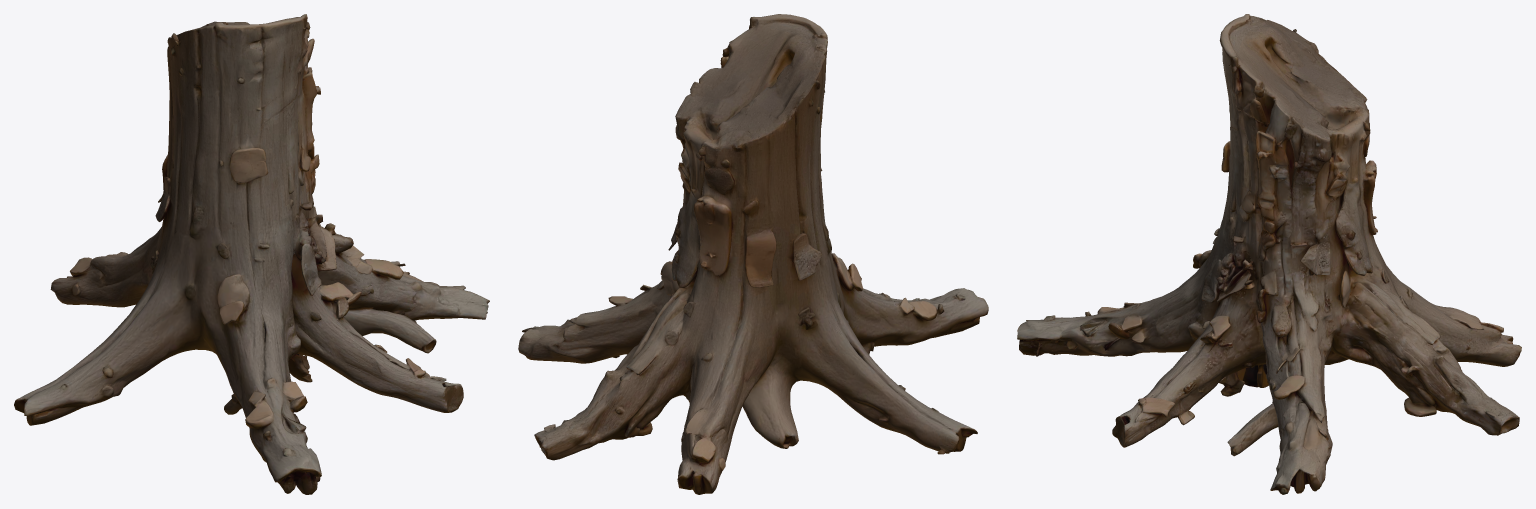
Rendered from tree-stump-roots.glb.
The picture shows the model from 3 angles, left to right: view 1: azimuth 30°, elevation 25°; view 2: azimuth 150°, elevation 25°; view 3: azimuth 270°, elevation 25°; orthographic projection. The views are drawn at different scales.
Visible parts, largest first — view 1: tripo_node_0edcd02a-f36c-480e-bb10-2e0dfb66da73; view 2: tripo_node_0edcd02a-f36c-480e-bb10-2e0dfb66da73; view 3: tripo_node_0edcd02a-f36c-480e-bb10-2e0dfb66da73.
Part boxes in pixels (box(x1,y1,x2,y2)): tripo_node_0edcd02a-f36c-480e-bb10-2e0dfb66da73: box(14, 14, 489, 494); tripo_node_0edcd02a-f36c-480e-bb10-2e0dfb66da73: box(518, 14, 988, 494); tripo_node_0edcd02a-f36c-480e-bb10-2e0dfb66da73: box(1017, 14, 1521, 494).
Size of the model in its own units: 0.7751 by 0.6 by 0.7717.
1 material, 1 textured.
